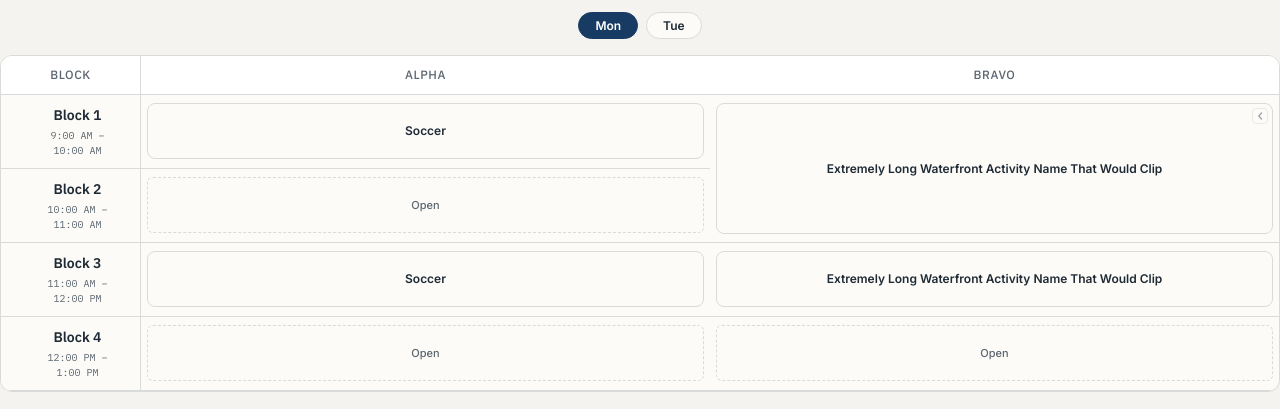
Test: ScheduleDayView — CSS Grid conversion (T56) › T112 — double-click on an empty cell opens the inline editor
Double-click the 1st cell "Open" at [426, 206], box [141,169,710,243]
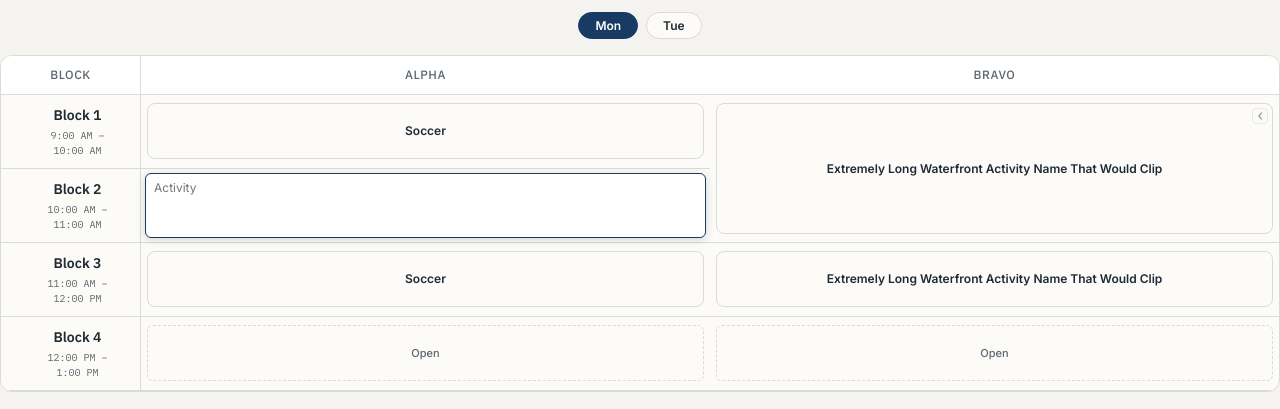
Result: the field with class "cell-inline-editor-input" is shown at [146,174,705,201]
